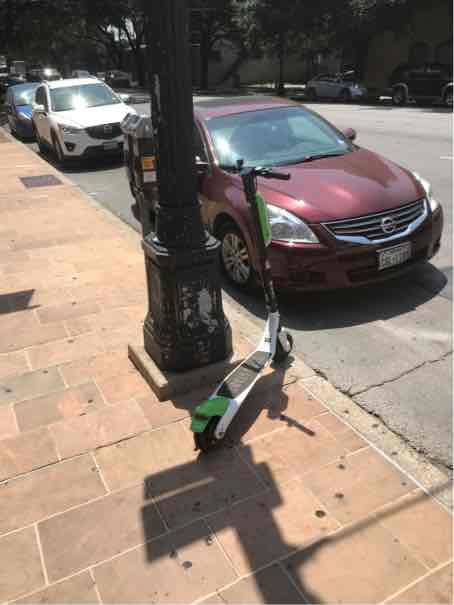scooter: (186, 157, 302, 465)
